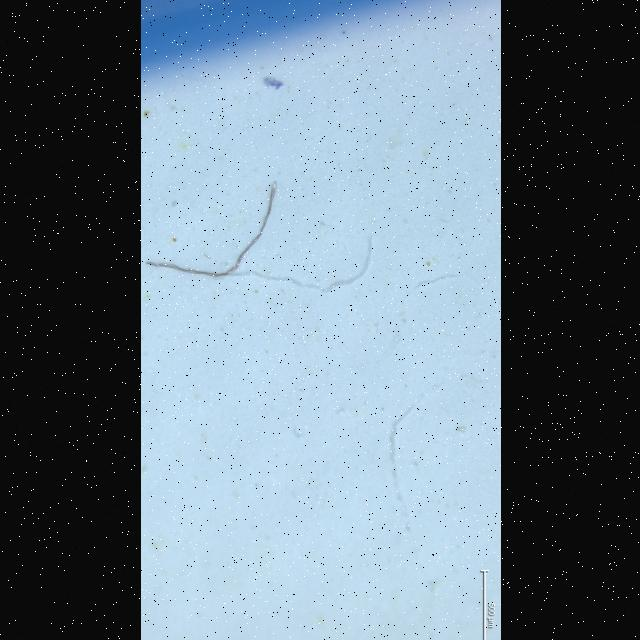Fibre: (145, 237, 371, 293), (145, 182, 276, 277), (389, 393, 428, 519), (261, 182, 275, 229), (405, 520, 409, 531)
Fragment: (263, 77, 283, 90)
